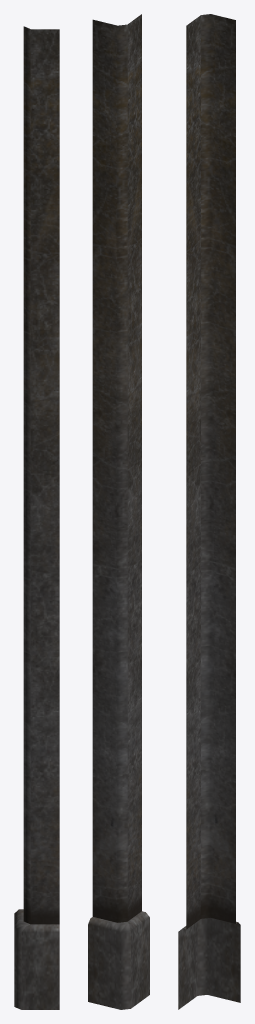
Rendered from Basement_Corridor_D_Wall_Corner.glb.
3 views of the same model, side by side, from view 1: azimuth 90°, elevation 25°; view 2: azimuth 150°, elevation 25°; view 3: azimuth 330°, elevation 25° (orthographic).
Visible parts, largest first — view 1: Basement_Corridor_D_Wall_Corner; view 2: Basement_Corridor_D_Wall_Corner; view 3: Basement_Corridor_D_Wall_Corner.
Boxes of the visible parts, bbox=[...] form: Basement_Corridor_D_Wall_Corner: bbox=[14, 26, 59, 1009]; Basement_Corridor_D_Wall_Corner: bbox=[88, 14, 149, 1009]; Basement_Corridor_D_Wall_Corner: bbox=[178, 14, 240, 1009].
Bounding box in the file's own units: 0.1256 × 3 × 0.1256.
2 materials, 2 textured.
